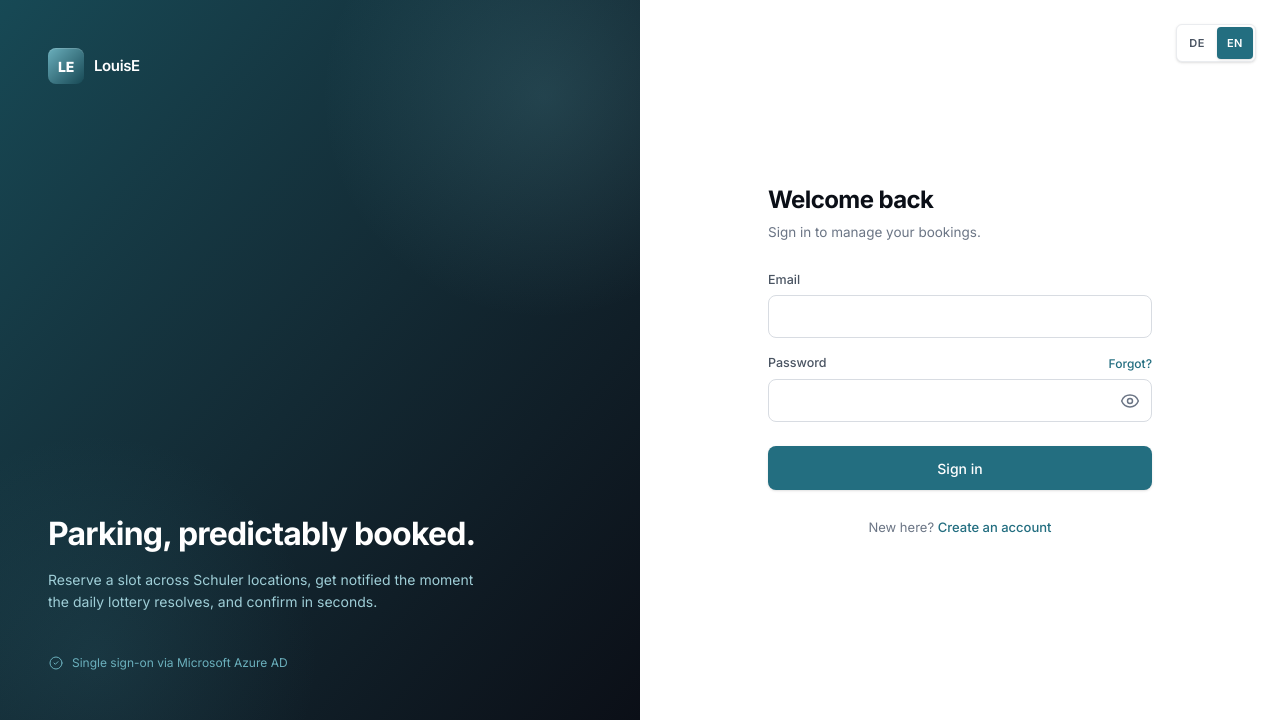
Test case: LoginPage › shows error message on login failure
Type "wrong@test.de" into the field labelled "Email" at x=960, y=317, box [768, 295, 1152, 338]
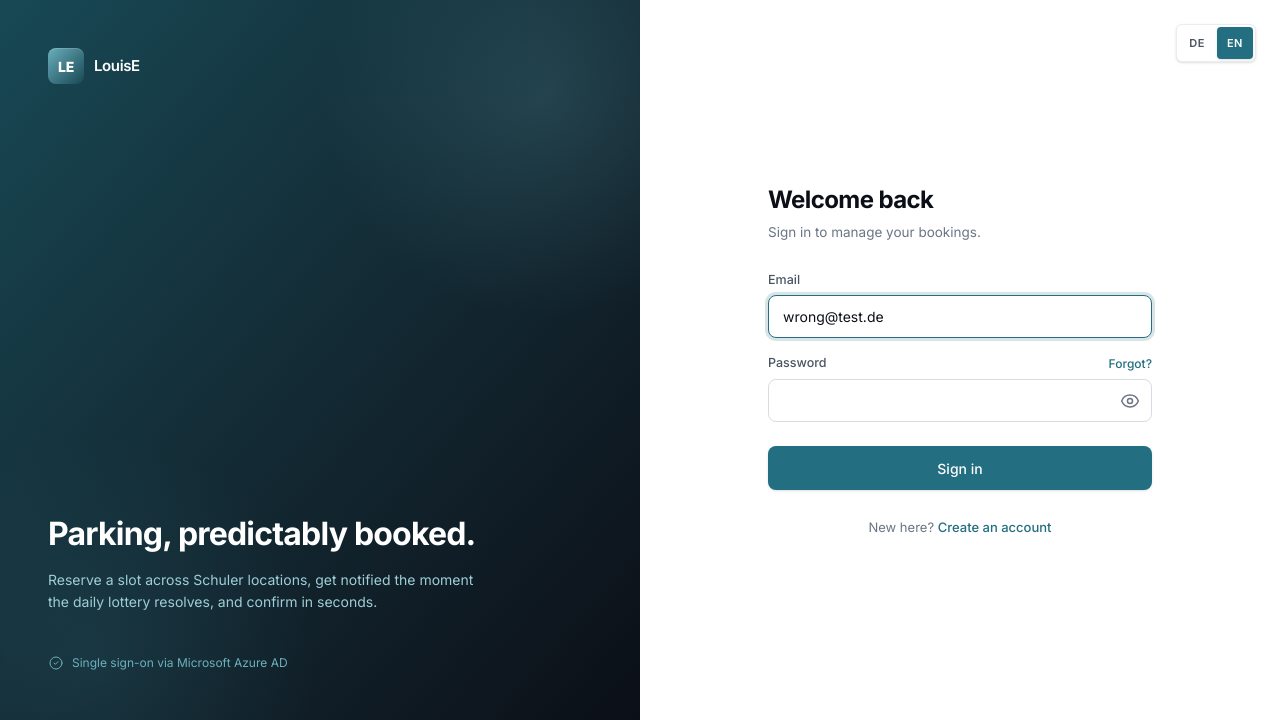
Type "wrongpass" into the password field labelled "Password" at x=960, y=401, box [768, 379, 1152, 422]
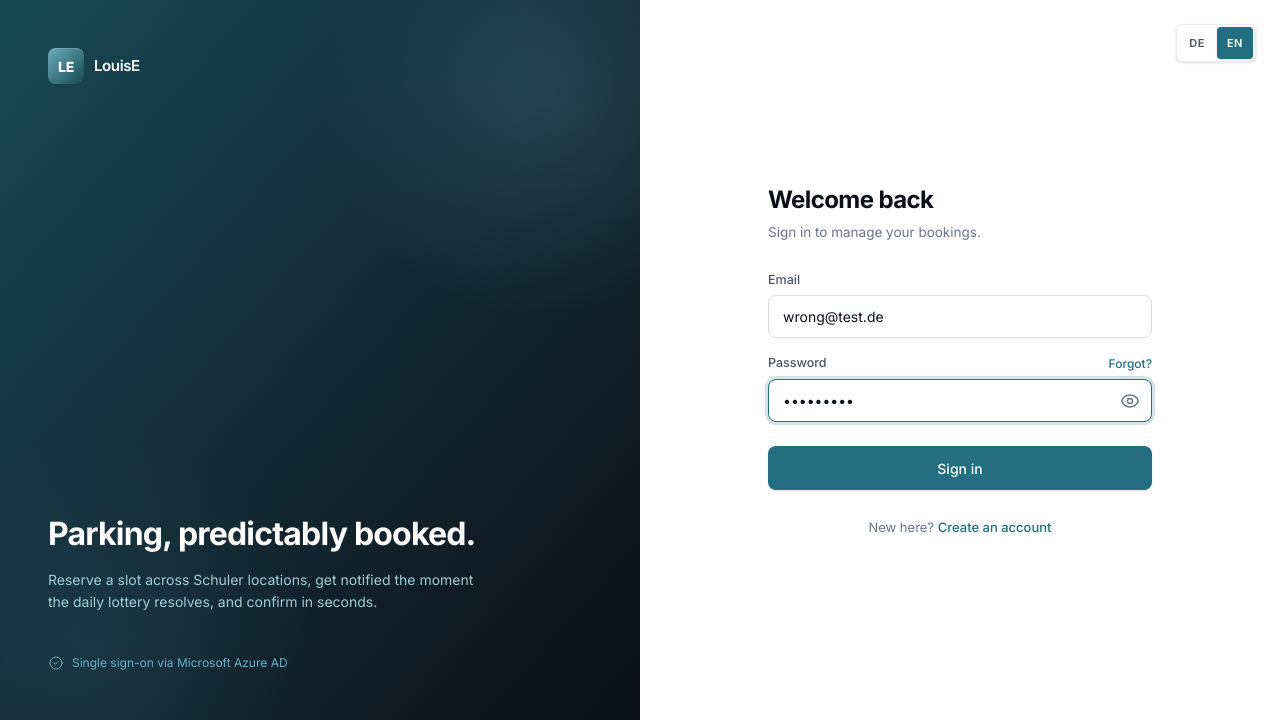
Click the button "Sign in" at x=960, y=468, box [768, 446, 1152, 490]
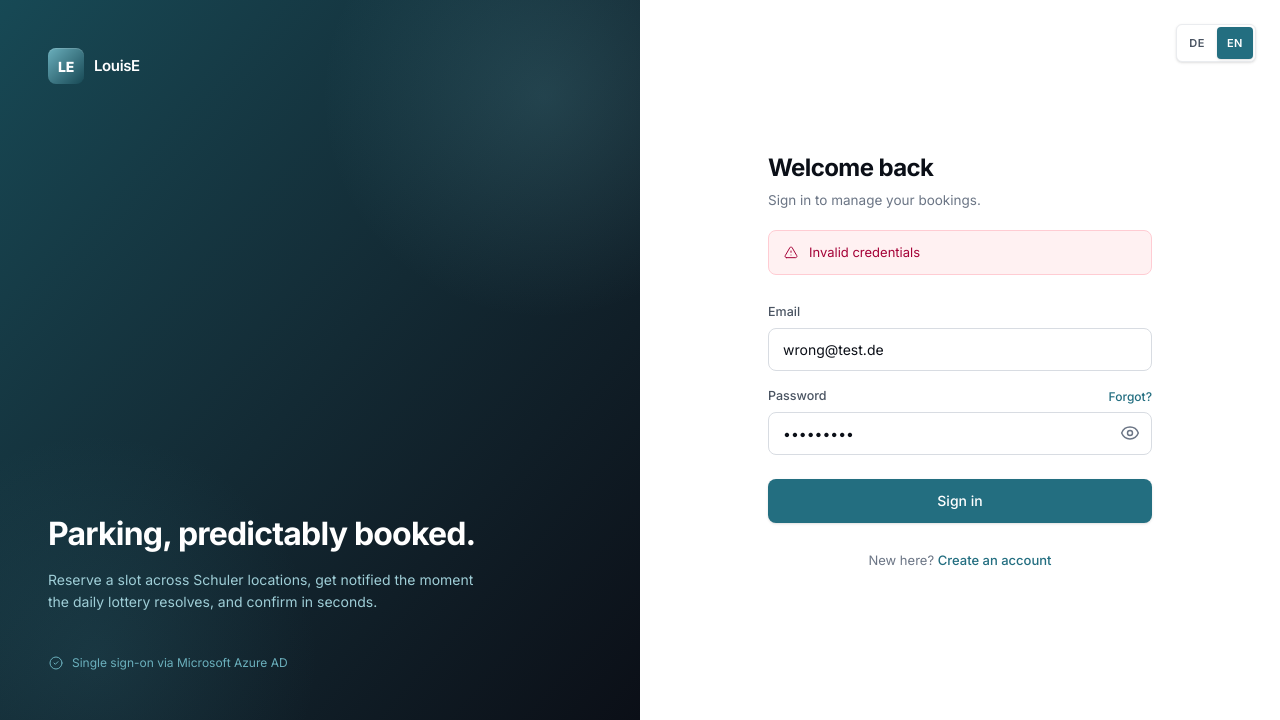
Check: the text "Invalid credentials" is shown, box [809, 244, 920, 260]
